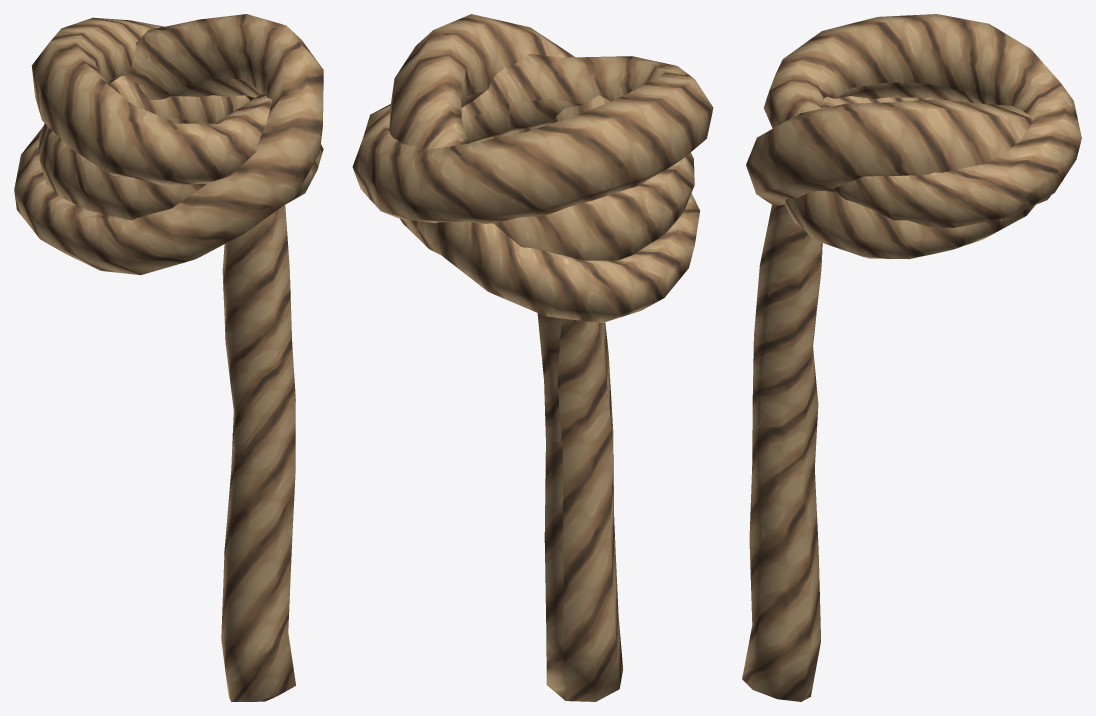
Rendered from SM_MOD_rope_deco_town_01.fbx.
The picture shows the model from 3 angles, left to right: view 1: azimuth 30°, elevation 25°; view 2: azimuth 150°, elevation 25°; view 3: azimuth 270°, elevation 25°; orthographic projection. The views are drawn at different scales.
Parts seen in each view (by area): view 1: SM_MOD_rope_deco_town_01_LOD0; view 2: SM_MOD_rope_deco_town_01_LOD0; view 3: SM_MOD_rope_deco_town_01_LOD0.
Part boxes in pixels (x1,y1,x2,y2): SM_MOD_rope_deco_town_01_LOD0: (14, 14, 323, 701); SM_MOD_rope_deco_town_01_LOD0: (352, 14, 713, 701); SM_MOD_rope_deco_town_01_LOD0: (742, 14, 1081, 701).
Size of what is drawn, in the model's own units: 34.7 by 77.19 by 38.02.
